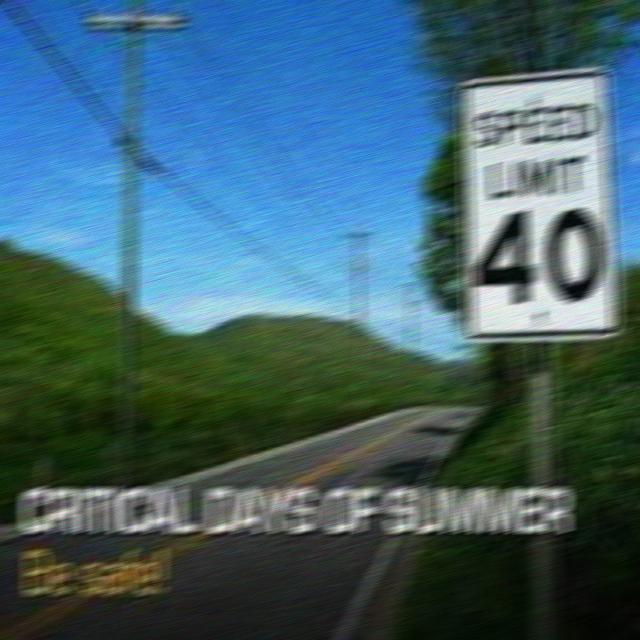speedLimit40: (450, 72, 620, 339)
